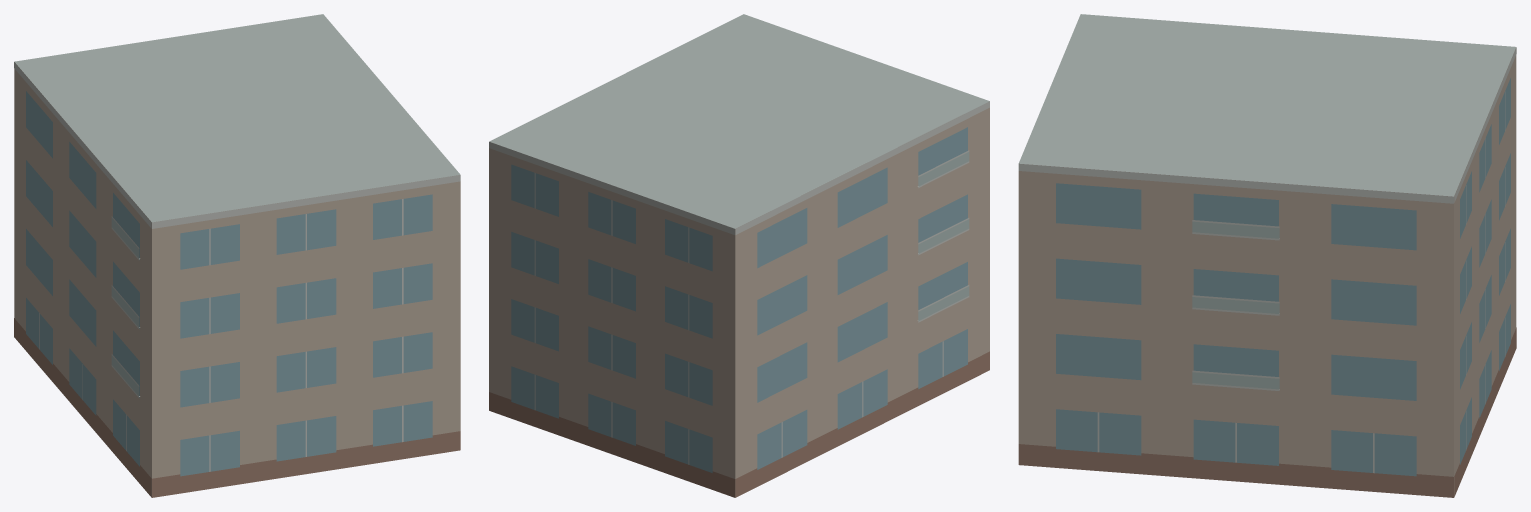
The model's file is survey-upis-32657087.glb.
The picture shows the model from 3 angles, left to right: view 1: azimuth 30°, elevation 25°; view 2: azimuth 150°, elevation 25°; view 3: azimuth 270°, elevation 25°; orthographic projection. The views are drawn at different scales.
Parts seen in each view (by area): view 1: survey-upis-32657087.tmp; view 2: survey-upis-32657087.tmp; view 3: survey-upis-32657087.tmp.
Part boxes in pixels (bbox=[...]): survey-upis-32657087.tmp: bbox=[14, 14, 460, 497]; survey-upis-32657087.tmp: bbox=[489, 14, 989, 497]; survey-upis-32657087.tmp: bbox=[1018, 14, 1516, 497].
Size of the model in its own units: 13.24 by 10.18 by 15.26.
